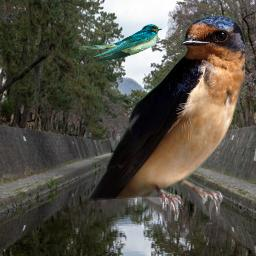Swallow: (86, 14, 245, 221), (77, 24, 162, 62)
